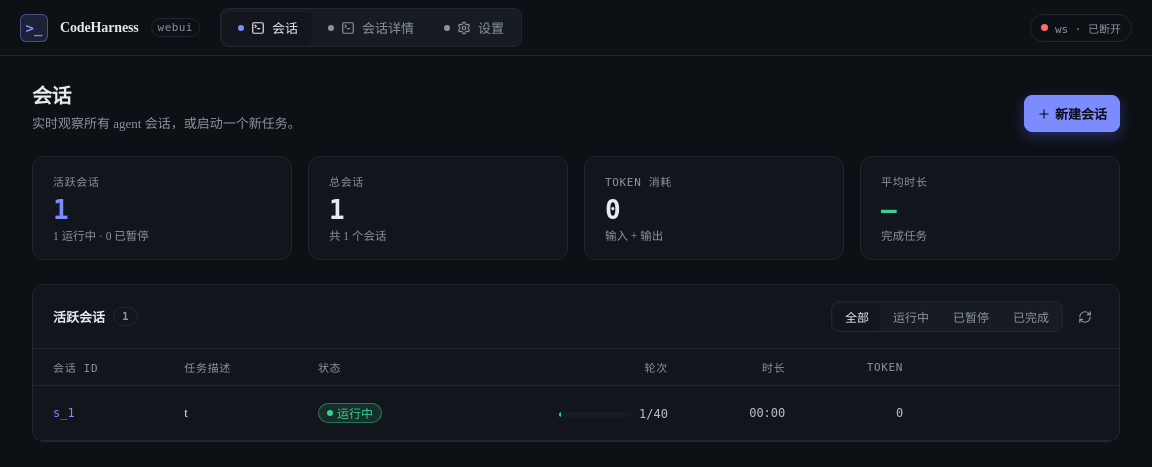
Scenario: App shell / TopBar › jumps into the first session when the 会话详情 tab is clicked from the dashboard
What coordinates should you click on to do the following:
click the button with aria-label "视图：会话详情"
I would click on:
 (371, 28)
Its box is [314,12,428,43].
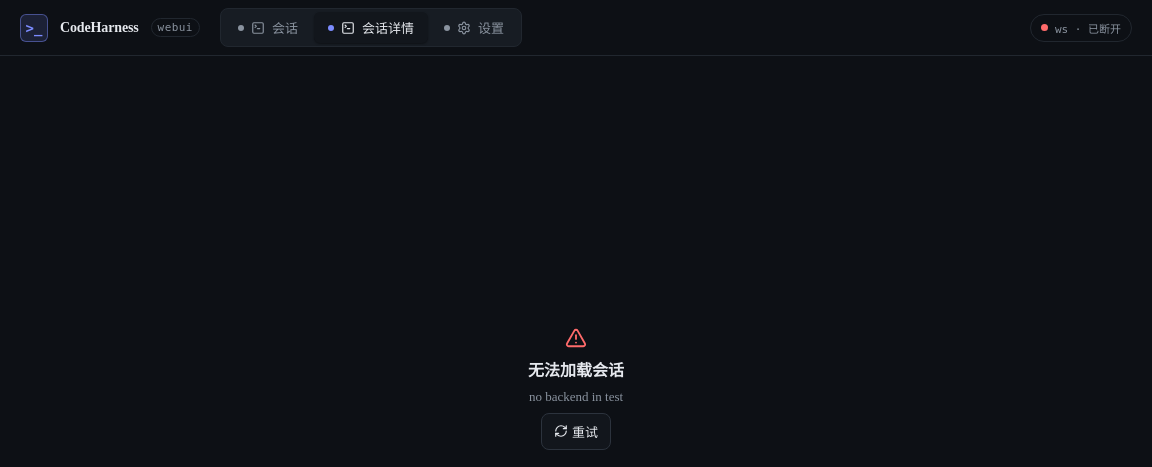
Expected: the text "无法加载会话" is shown, [528,356,624,380]
